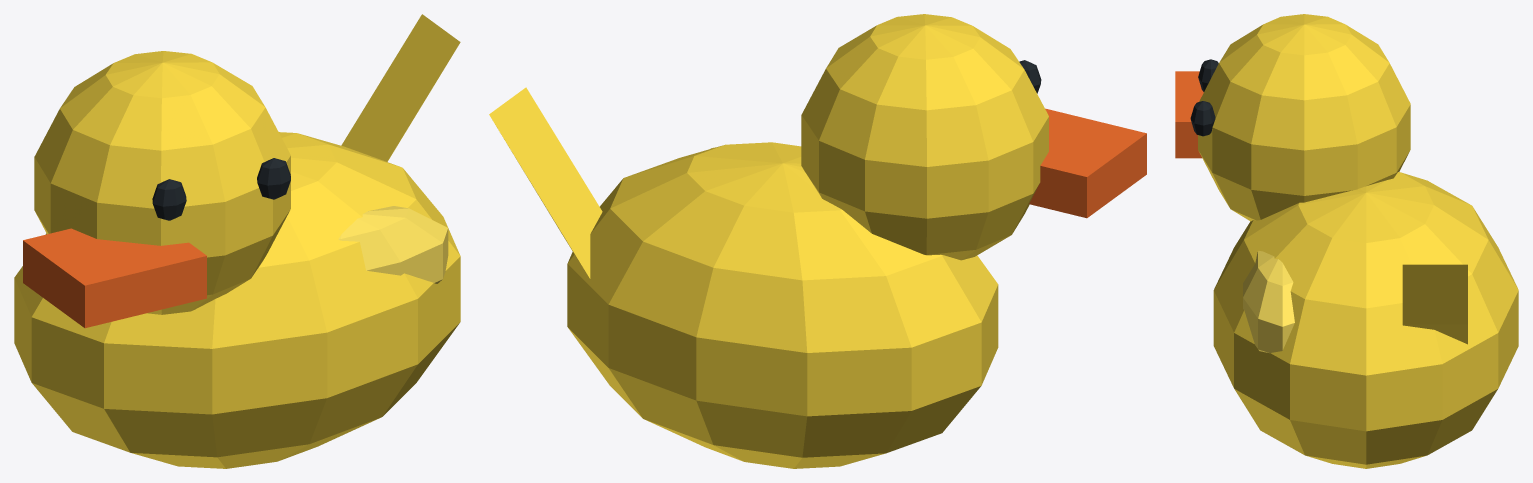
File: rubber_duck.glb
3 renders of one model, left to right at view 1: azimuth 30°, elevation 25°; view 2: azimuth 150°, elevation 25°; view 3: azimuth 270°, elevation 25°, orthographic. The views are drawn at different scales.
Visible parts, largest first — view 1: Round duck body, Duck head, Duck bill, Pointed tail, Duck wing, Left eye, Right eye; view 2: Round duck body, Duck head, Duck bill, Pointed tail; view 3: Round duck body, Duck head, Pointed tail, Duck wing, Duck bill, Right eye, Left eye.
Part boxes in pixels (x1,y1,x2,y2): Round duck body: (14, 132, 460, 468); Duck head: (34, 51, 290, 314); Duck bill: (23, 228, 206, 328); Pointed tail: (341, 14, 460, 161); Duck wing: (338, 206, 448, 283); Left eye: (152, 179, 186, 220); Right eye: (257, 158, 290, 199); Round duck body: (567, 142, 998, 468); Duck head: (801, 14, 1048, 260); Duck bill: (1029, 108, 1146, 218); Pointed tail: (489, 87, 602, 278); Round duck body: (1213, 172, 1518, 468); Duck head: (1198, 14, 1410, 221); Pointed tail: (1402, 264, 1467, 344); Duck wing: (1243, 251, 1294, 353); Duck bill: (1175, 71, 1203, 158); Right eye: (1190, 101, 1215, 136); Left eye: (1198, 59, 1218, 91).
Size of the model in its own units: 1.38 by 1.13 by 0.9442.
